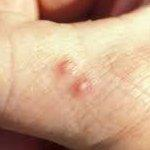Ants: (71, 76, 93, 97), (56, 58, 73, 76)
